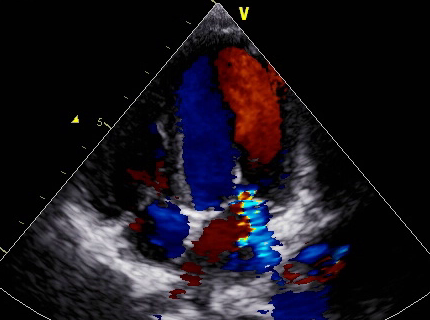MR: (240, 185, 286, 238)
